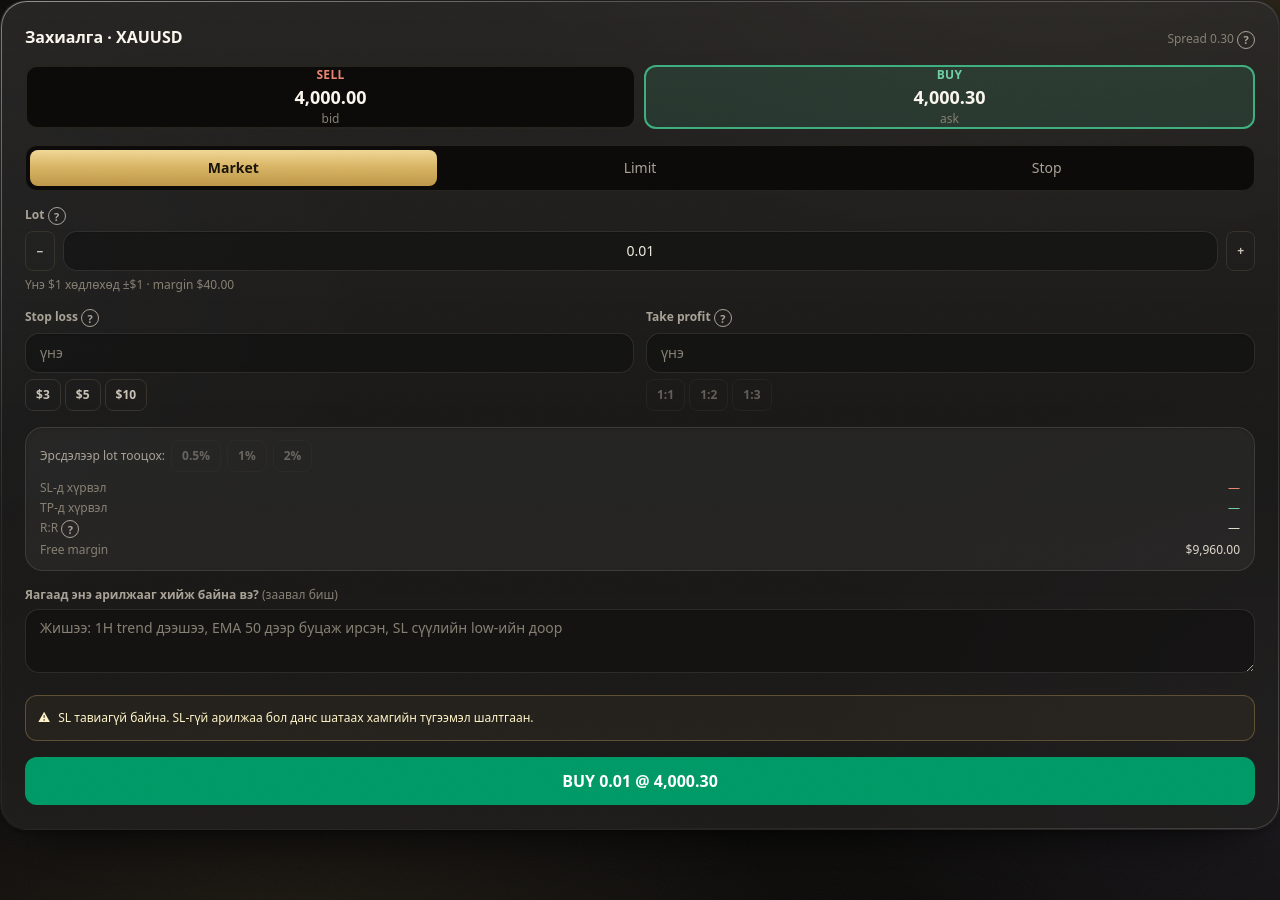
Scenario: the risk is worked out before the trade: a $5 stop, then 1% of the account sizes it at 0.20 lot
Click the button "$5".
click(83, 395)  # box [65,379,101,411]
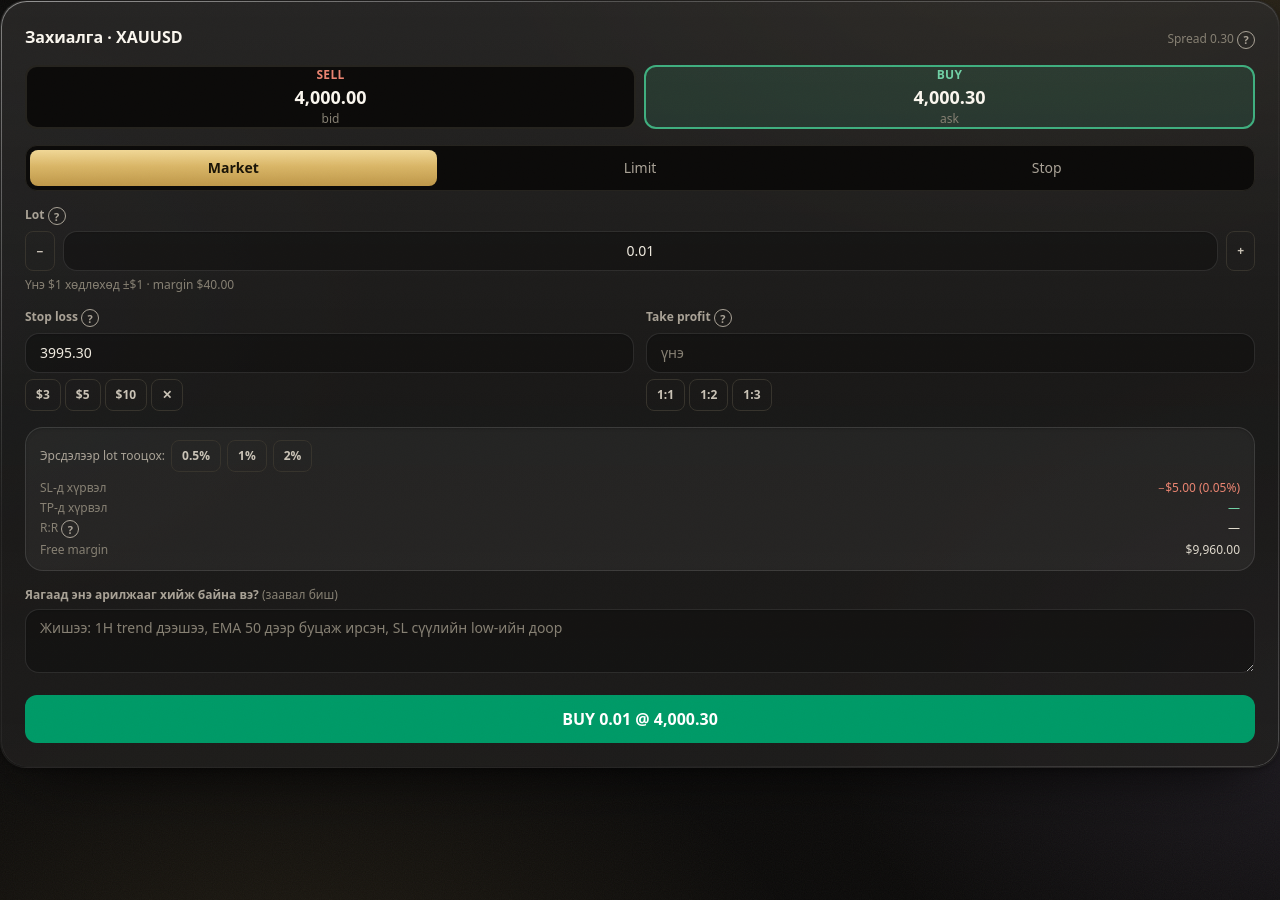
Now the field labelled "Stop loss ?" holds "3995.30", box [25,333,634,373]
Click the button "1%".
click(247, 456)  # box [227,440,267,472]
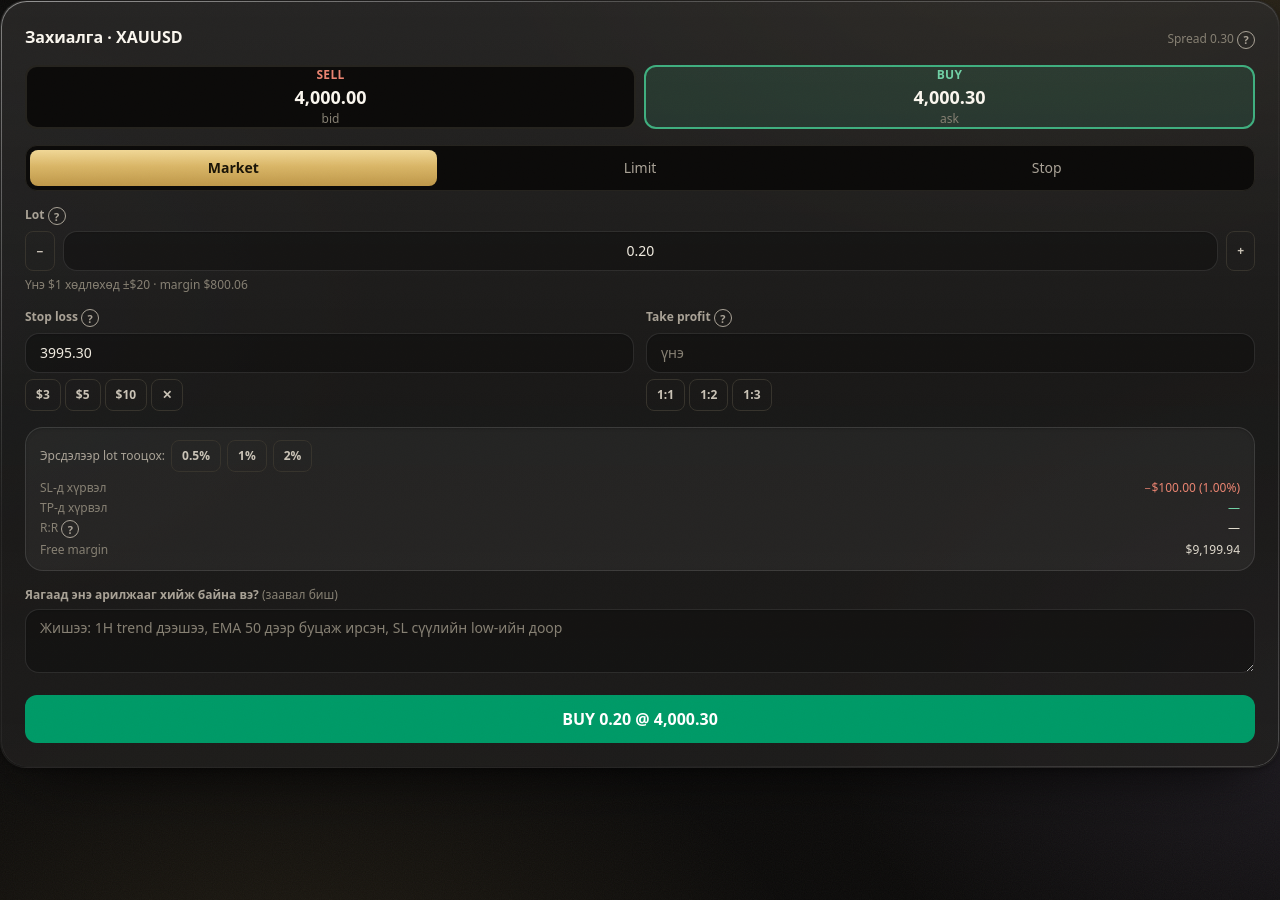
Now the field labelled "Lot ?" holds "0.20", box [63,231,1218,271]
Now the text "−$100.00 (1.00%)" is shown, box [1144,479,1240,496]
Click the button "1:2".
click(709, 395)  # box [689,379,728,411]
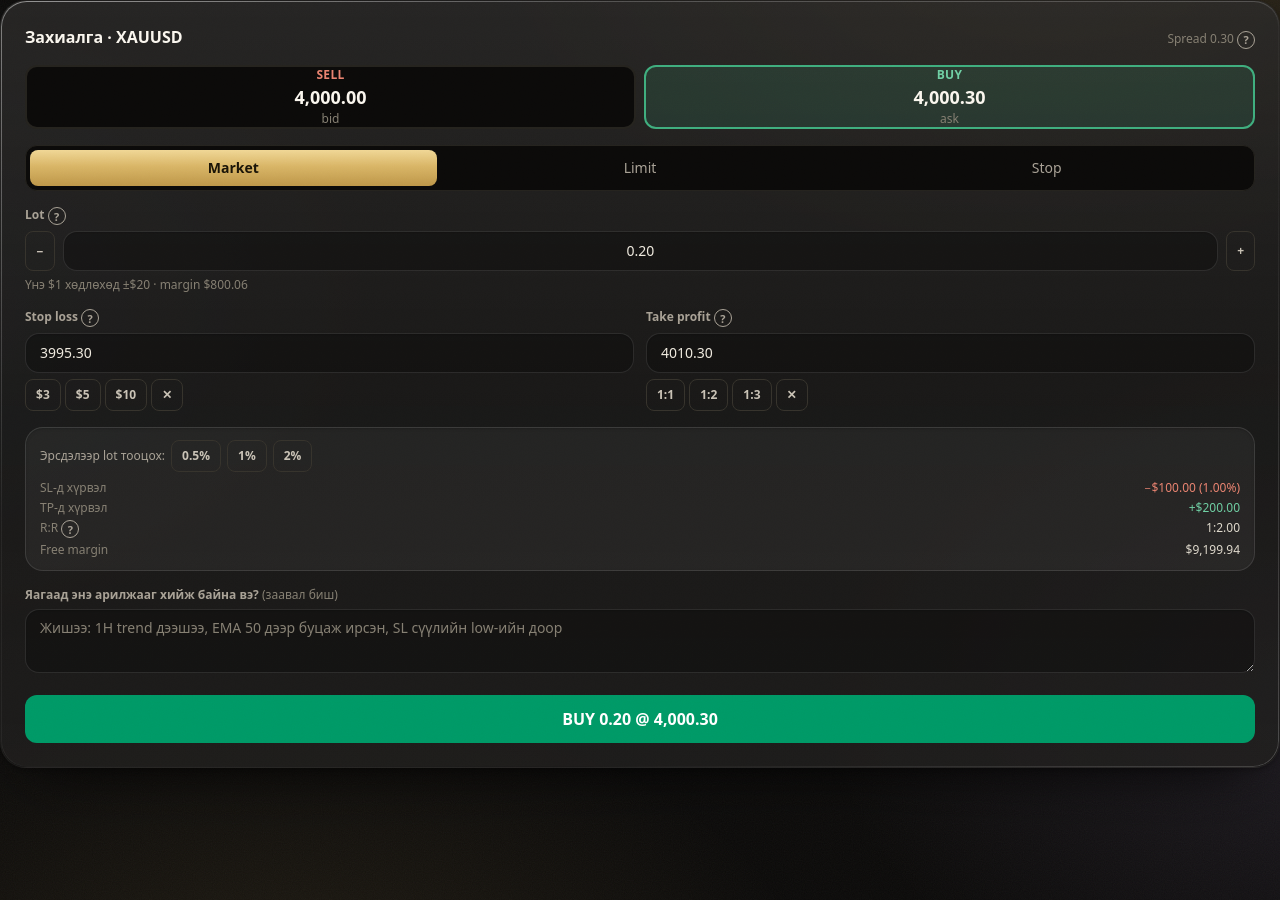
Expected: the button "BUY 0.20 @ 4,000.30" is enabled, [25,695,1255,743]
Now the field labelled "Take profit ?" holds "4010.30", box [646,333,1255,373]
Now the text "1:2.00" is shown, box [1206,519,1240,536]
